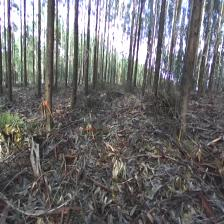trunk: (176, 9, 201, 129), (42, 2, 54, 126), (152, 6, 166, 96), (73, 2, 79, 100), (84, 24, 90, 96), (132, 36, 140, 87), (37, 23, 41, 97), (7, 32, 11, 100), (23, 4, 26, 84)
